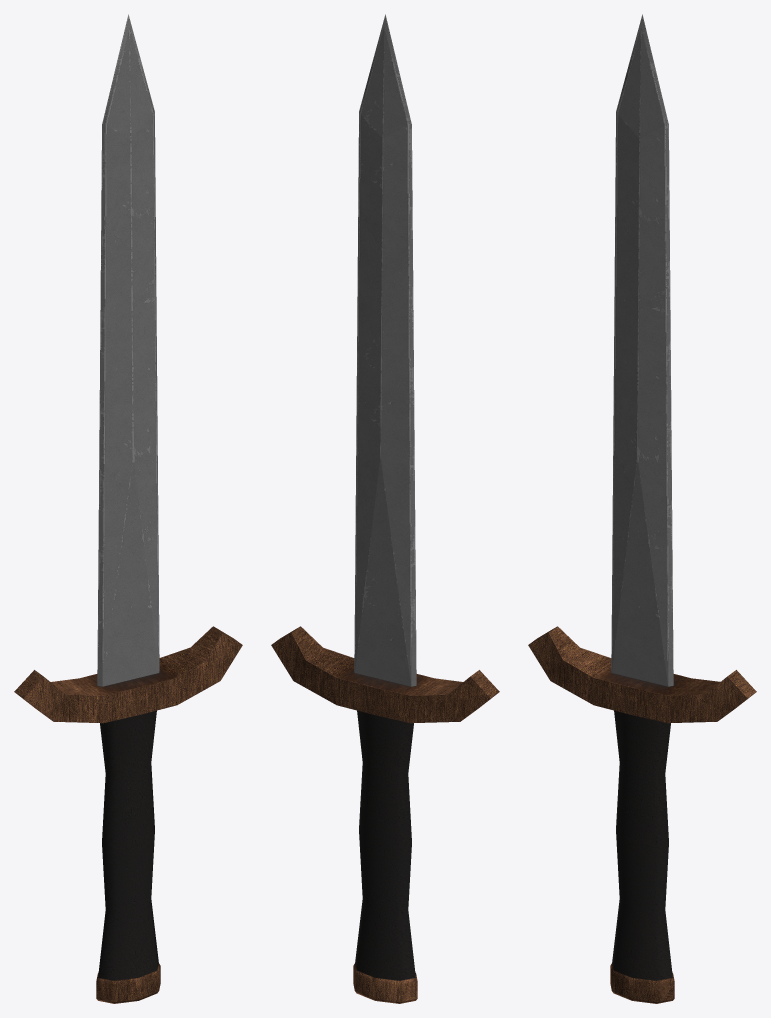
The model's file is Sword_render.fbx.
3 views of the same model, side by side, from view 1: azimuth 30°, elevation 25°; view 2: azimuth 150°, elevation 25°; view 3: azimuth 330°, elevation 25° (orthographic).
Parts seen in each view (by area): view 1: sword; view 2: sword; view 3: sword.
Boxes of the visible parts, x1,y1,x2,y2 form: sword: [14, 14, 242, 1003]; sword: [271, 14, 499, 1003]; sword: [528, 14, 756, 1003].
Bounding box in the file's own units: 13.61 × 58.02 × 2.7.
